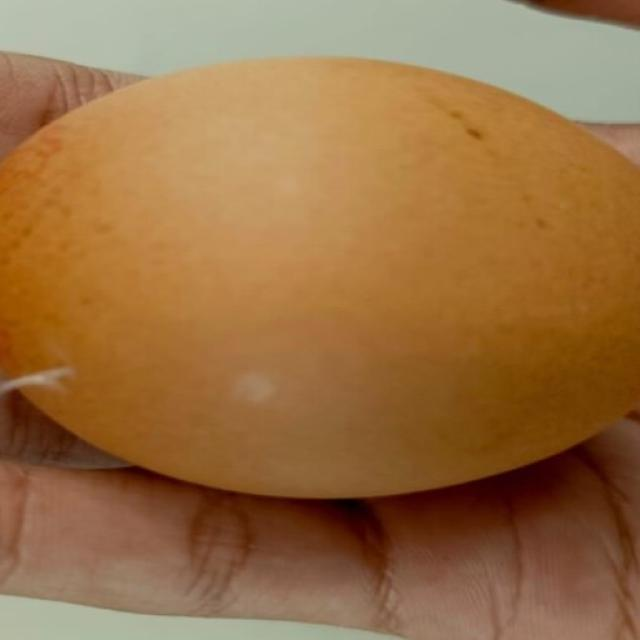unfresh: (0, 49, 640, 511)
